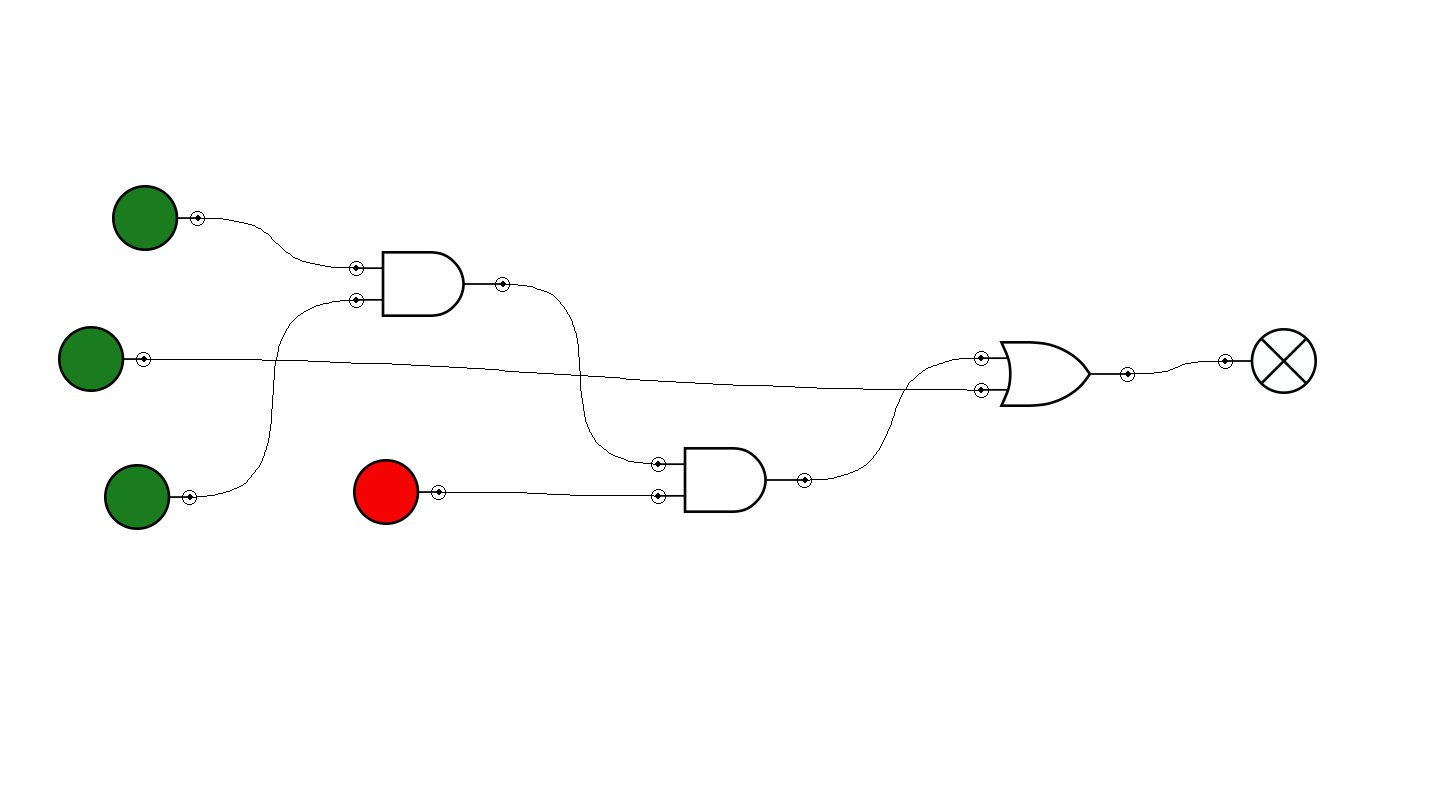and: (349, 251, 510, 317), (651, 447, 812, 513)
bulb: (1218, 328, 1317, 394)
or: (974, 341, 1135, 407)
switch_False: (353, 459, 446, 525)
switch_True: (112, 185, 205, 251), (104, 464, 197, 530), (58, 326, 151, 392)
